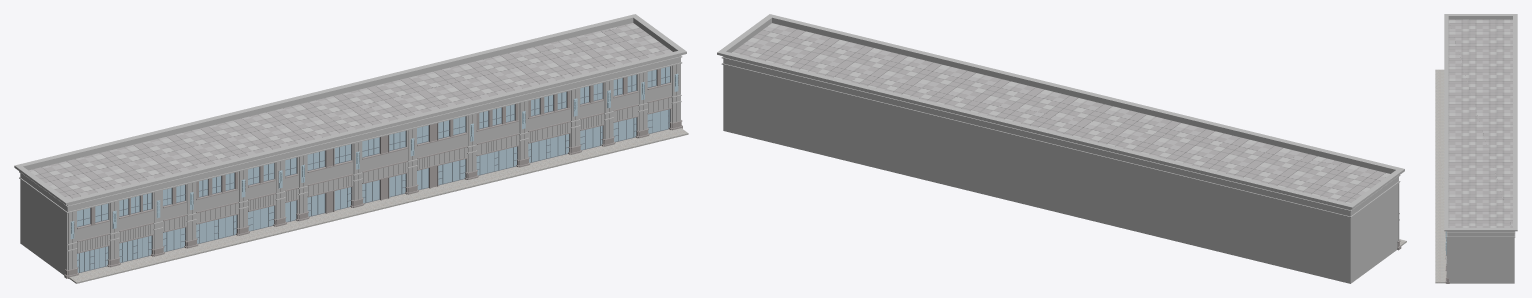
File: main-house.gltf
3 renders of one model, left to right at view 1: azimuth 30°, elevation 25°; view 2: azimuth 150°, elevation 25°; view 3: azimuth 270°, elevation 25°, orthographic. The views are drawn at different scales.
Parts seen in each view (by area): view 1: 办公楼43; view 2: 办公楼43; view 3: 办公楼43.
Boxes of the visible parts, x1=… form: 办公楼43: x1=14, y1=14, x2=688, y2=283; 办公楼43: x1=717, y1=14, x2=1406, y2=283; 办公楼43: x1=1435, y1=14, x2=1517, y2=283.
Size of the model in its own units: 74.45 by 8.85 by 11.98.
8 materials, 2 textured.
